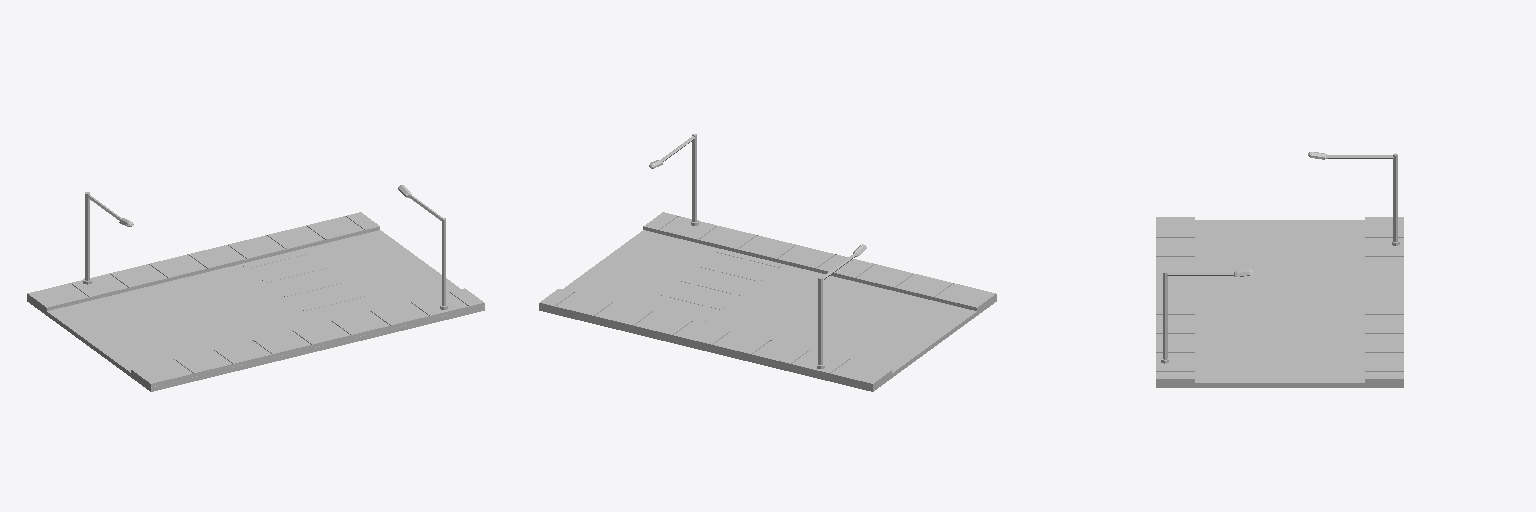
3 views of the same model, side by side, from view 1: azimuth 30°, elevation 25°; view 2: azimuth 150°, elevation 25°; view 3: azimuth 270°, elevation 25° (orthographic).
Visible parts, largest first — view 1: Объект_Куб, Объект_Куб.1-Ноль_объект_1, Объект_Куб.1-Ноль_объект; view 2: Объект_Куб, Объект_Куб.1-Ноль_объект_1, Объект_Куб.1-Ноль_объект; view 3: Объект_Куб, Объект_Куб.1-Ноль_объект_1, Объект_Куб.1-Ноль_объект.
Part boxes in pixels (bbox=[...]): Объект_Куб: bbox=[27, 230, 484, 391]; Объект_Куб.1-Ноль_объект_1: bbox=[27, 212, 379, 310]; Объект_Куб.1-Ноль_объект: bbox=[131, 288, 484, 387]; Объект_Куб: bbox=[539, 230, 996, 391]; Объект_Куб.1-Ноль_объект_1: bbox=[539, 289, 891, 387]; Объект_Куб.1-Ноль_объект: bbox=[643, 212, 996, 311]; Объект_Куб: bbox=[1156, 220, 1403, 387]; Объект_Куб.1-Ноль_объект_1: bbox=[1365, 217, 1403, 383]; Объект_Куб.1-Ноль_объект: bbox=[1156, 217, 1194, 383].
Size of the model in its own units: 659 by 189 by 423.